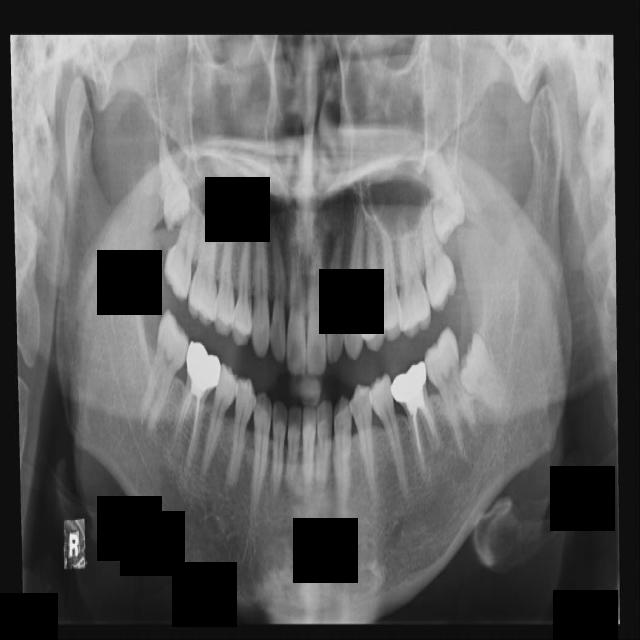3M ESPE Implant: (156, 135, 192, 232)
52: (383, 358, 439, 410), (185, 340, 222, 391)
73: (160, 369, 220, 479), (397, 380, 450, 480), (588, 572, 594, 580)
BioHorizons Implant: (418, 193, 459, 314)
BioLife Implant: (425, 146, 469, 246)
Biomet 3i Implant: (442, 331, 519, 423)
Blue Sky Bio Implant: (417, 325, 484, 459)
Caries: (160, 187, 203, 303)
Implant: (136, 307, 197, 436)
